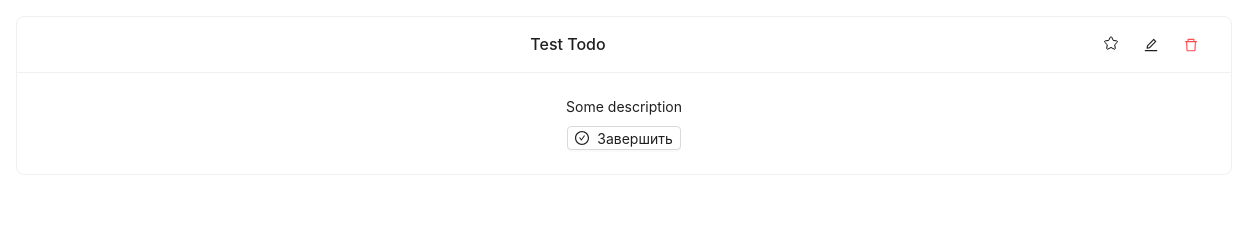
Test: TodoItem › отображает поле редактирования при клике на иконку редактирования
This screenshot has width=1249, height=236.
Click the button named "edit": {"x": 1151, "y": 44} [1135,28,1167,60]
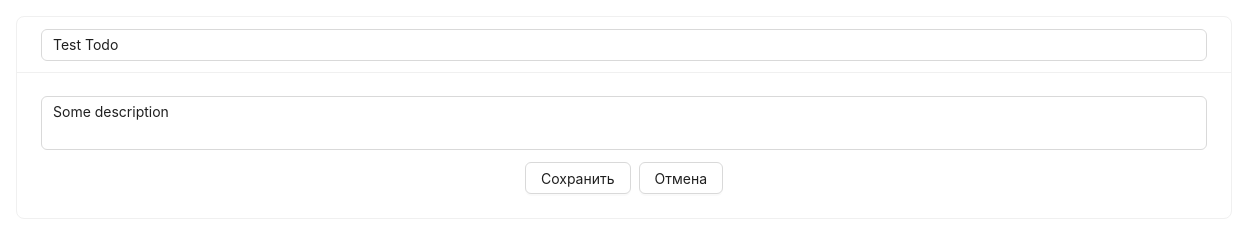
Expected: the field with placeholder "Заголовок" is shown, [41,28,1207,60]
Expected: the text box with placeholder "Описание" is shown, [41,96,1207,150]
